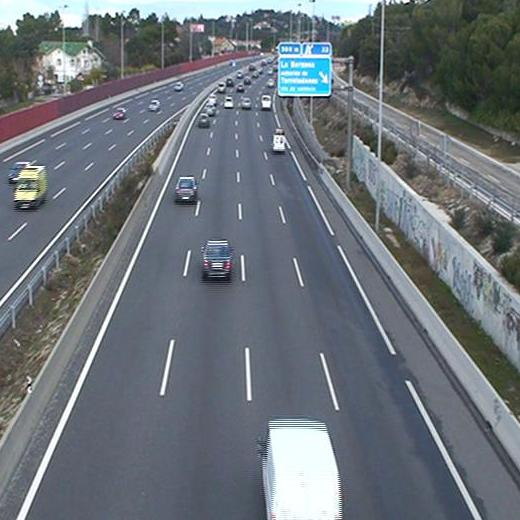car: (200, 239, 234, 278), (175, 176, 198, 202), (197, 113, 210, 126), (223, 96, 235, 108), (242, 96, 252, 108), (205, 103, 217, 113), (208, 93, 218, 104)
van: (271, 127, 287, 151), (260, 95, 271, 108)
